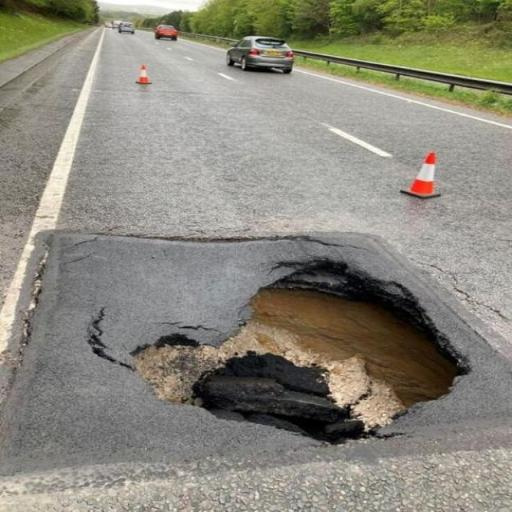Concentric_Crack: (89, 260, 468, 444)
